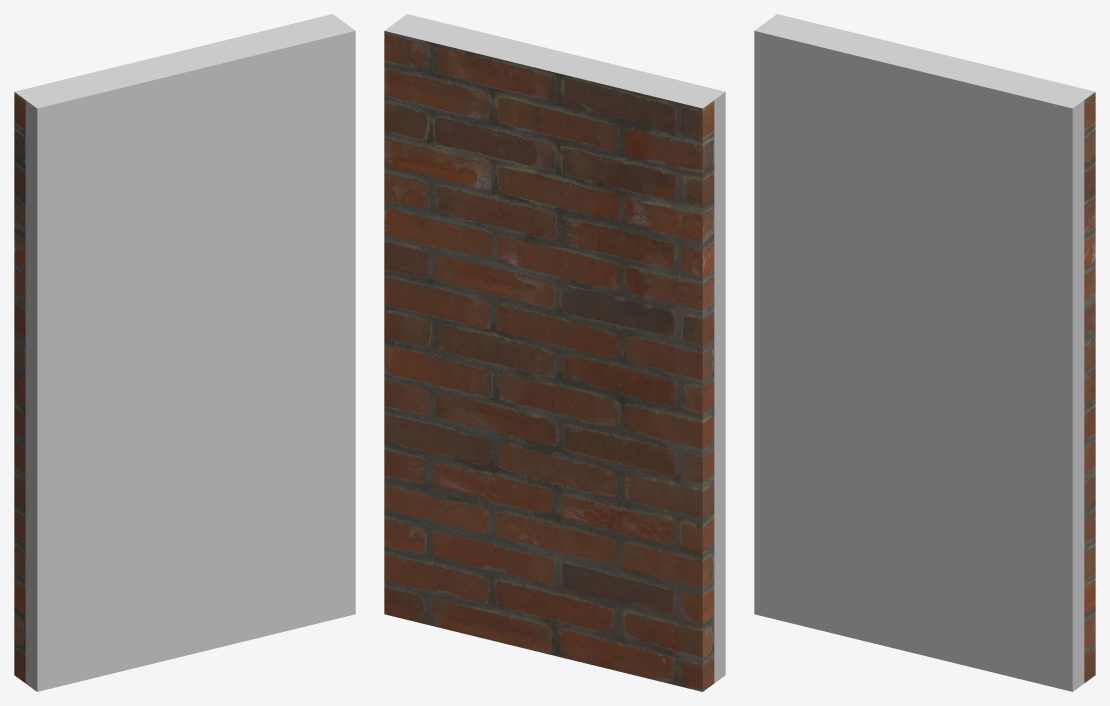
File: Wall_Complete.fbx
3 views of the same model, side by side, from view 1: azimuth 30°, elevation 25°; view 2: azimuth 150°, elevation 25°; view 3: azimuth 330°, elevation 25° (orthographic).
Parts seen in each view (by area): view 1: Wall; view 2: Wall; view 3: Wall.
Part boxes in pixels (box(x1,y1,x2,y2)): Wall: box(14, 14, 355, 691); Wall: box(384, 14, 725, 691); Wall: box(754, 14, 1095, 691).
Bounding box in the file's own units: 400 × 700 × 50.
